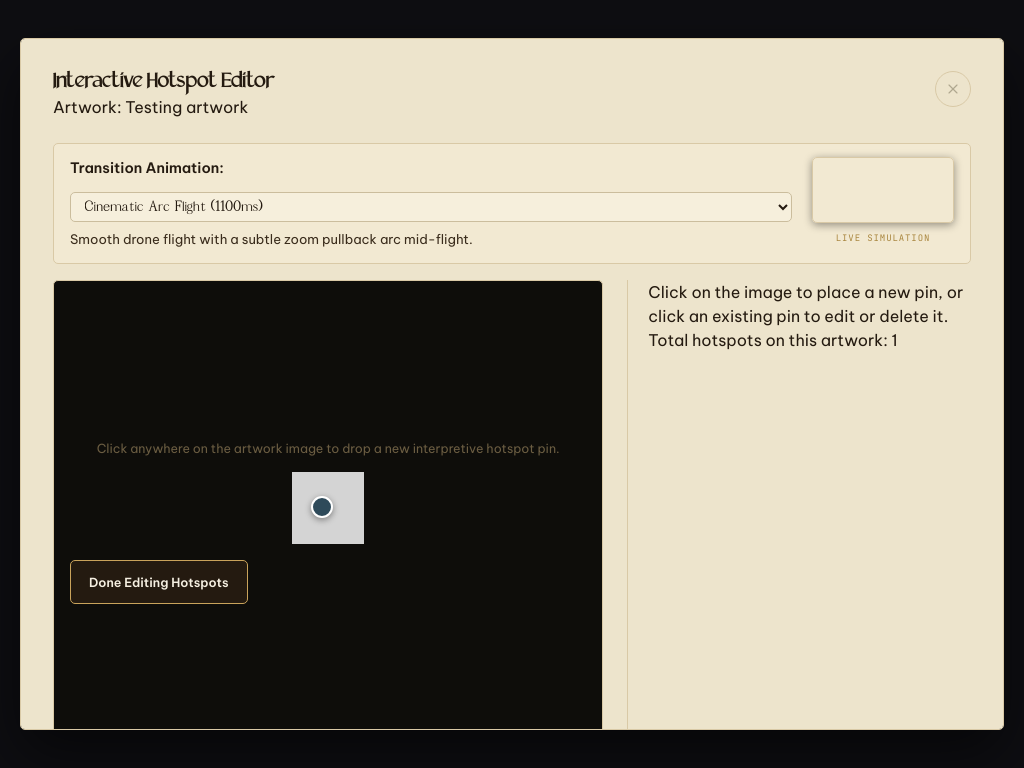
Test: HotspotEditor › orders action buttons as Cancel -> Delete -> Save Changes when editing a hotspot
// Click on the existing hotspot pin to open edit mode
Click the button titled "Testing hotspot point": click(322, 507) x1=311 y1=496 x2=333 y2=518
(page scrolled)
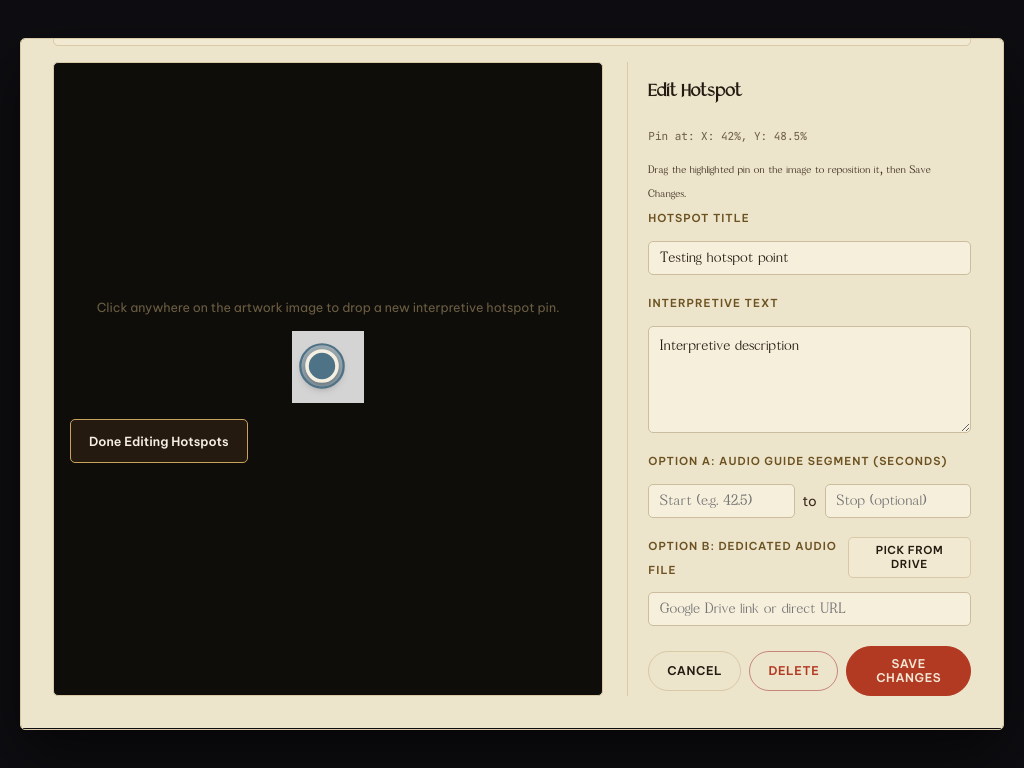
Now the heading "Edit Hotspot" is shown, box x1=648 y1=79 x2=743 y2=106
Now the element with class "form-actions" is shown, box x1=648 y1=646 x2=971 y2=696
Now the button "Cancel" is shown, box x1=648 y1=651 x2=741 y2=691
